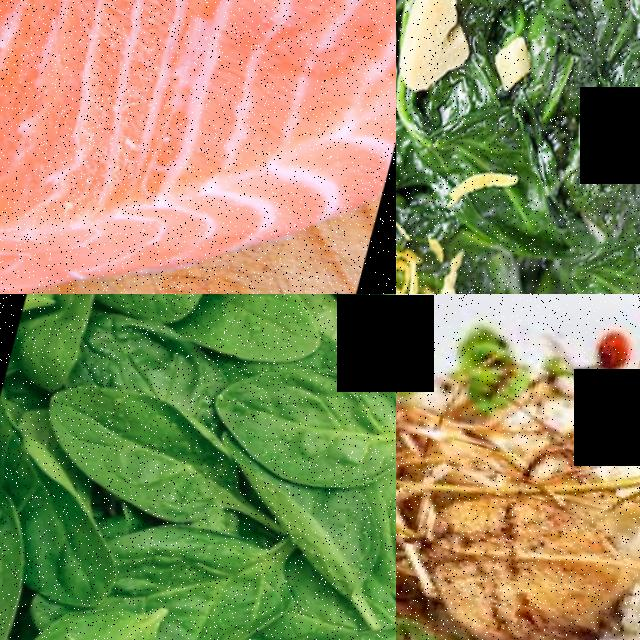salmon: (0, 0, 396, 285)
spinach: (196, 340, 396, 506), (32, 371, 212, 512), (127, 515, 297, 640), (18, 487, 126, 610), (195, 294, 328, 374), (84, 294, 220, 326), (10, 602, 124, 640)
